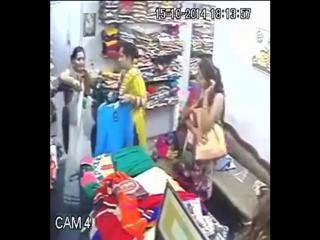Normal: (178, 56, 228, 173)
